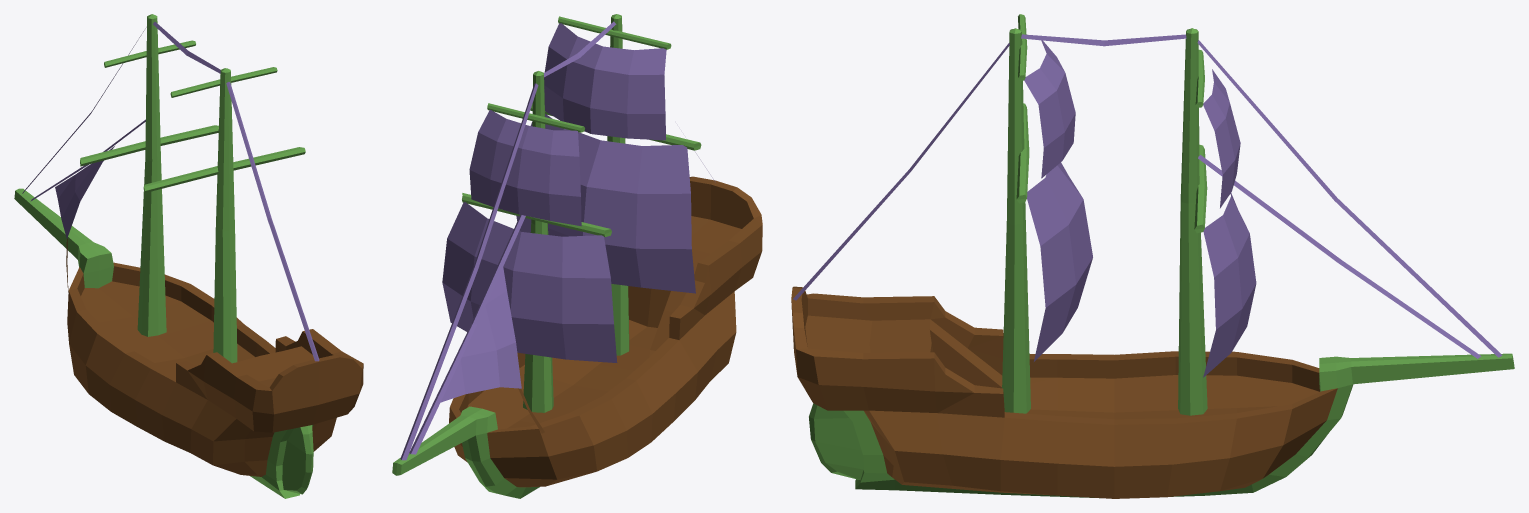
Rendered from Vehicle-Boat-A.glb.
3 renders of one model, left to right at view 1: azimuth 30°, elevation 25°; view 2: azimuth 150°, elevation 25°; view 3: azimuth 270°, elevation 25°, orthographic. The views are drawn at different scales.
Parts seen in each view (by area): view 1: Sails; view 2: Sails; view 3: Sails.
Boxes of the visible parts, x1,y1,x2,y2 form: Sails: (14, 14, 363, 498); Sails: (392, 14, 762, 498); Sails: (791, 14, 1514, 498).
Bounding box in the file's own units: 9.95 × 22.12 × 31.13.
